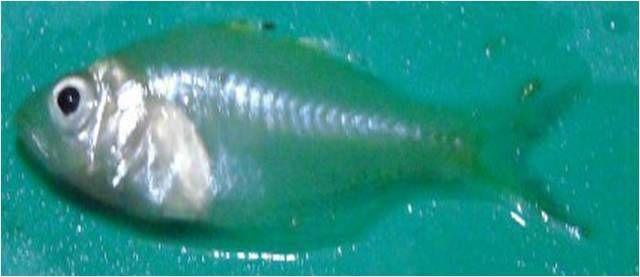Glass Perchlet: (16, 19, 603, 247)
